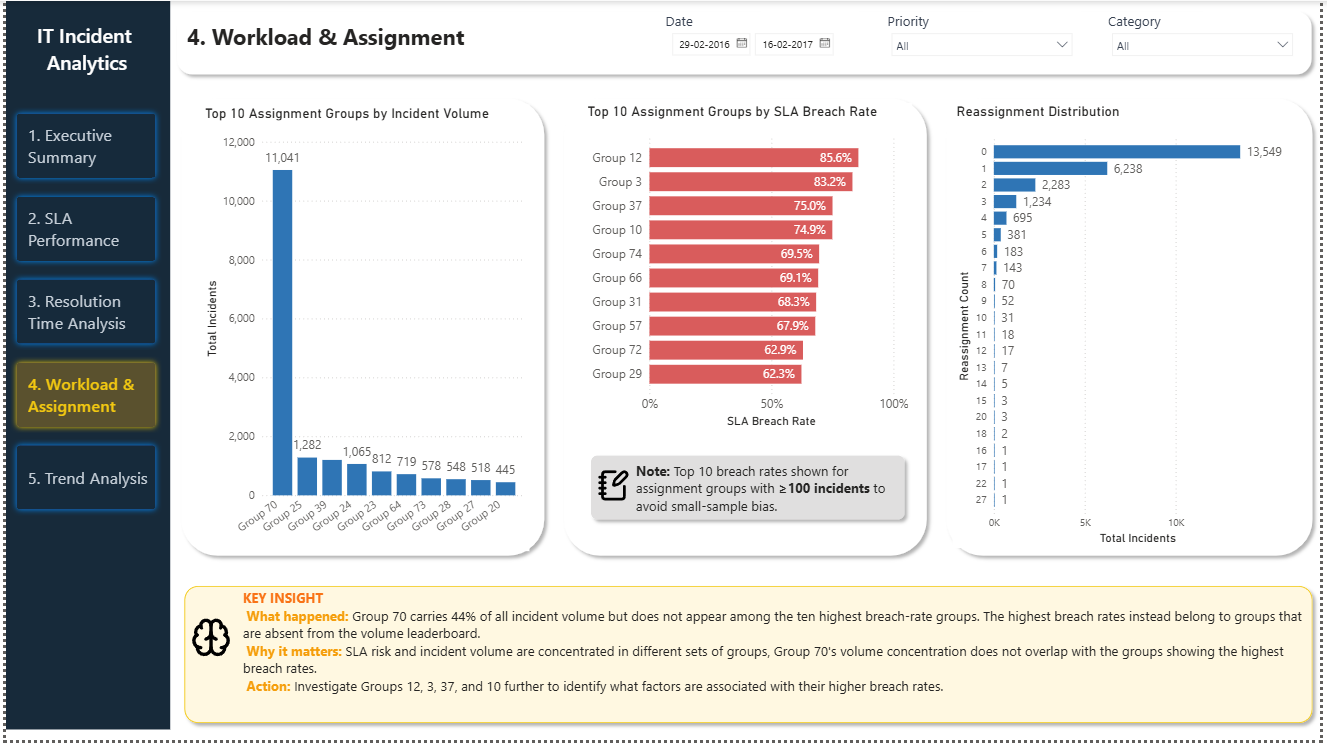

The page's visual inventory and layout, read from the dashboard file:
{"tool":"powerbi","page":{"name":"4. Workload & Assignment","canvas":[1600,900],"ordinal":3},"visuals":[{"type":"shape","box":[200,5,1400,95],"z":0,"group":"g2"},{"type":"clusteredBarChart","title":"Top 10 Assignment Groups by Volume","fields":{"Category":["v_assignment_group_summary.assignment_group"],"Y":["Sum(v_assignment_group_summary.incident_count)"]},"box":[144,96,464,336],"z":0},{"type":"shape","box":[0,-12,200,900],"z":1000,"group":"g3"},{"type":"textbox","box":[0,0,464,64],"z":1000},{"type":"clusteredBarChart","title":"Top 10 Assignment Groups by SLA Breach Rate","fields":{"Category":["v_assignment_group_summary.assignment_group"],"Y":["Max(v_assignment_group_summary.sla_breach_rate)"]},"box":[656,64,496,400],"z":2000},{"type":"clusteredColumnChart","title":"Reassignment Distribution","fields":{"Category":["v_reassignment_distribution.reassignment_count"],"Y":["Sum(v_reassignment_distribution.incident_count)"]},"box":[144,448,528,272],"z":3000},{"type":"group","id":"g1","title":"Group 6","box":[0,-12,1600,900],"z":3001},{"type":"group","id":"g2","title":"Group 2","box":[200,5,1400,95],"z":7000,"group":"g1"},{"type":"slicer","title":"Date","fields":{"Values":["incidents.opened_at"]},"box":[800,14,240,65],"z":7000,"group":"g2"},{"type":"slicer","title":"Priority","fields":{"Values":["incidents.priority"]},"box":[1069.5,14,240,65],"z":8000,"group":"g2"},{"type":"slicer","title":"Category","fields":{"Values":["incidents.category"]},"box":[1339,14,240,65],"z":9000,"group":"g2"},{"type":"textbox","box":[208,18,290,48],"z":10000,"group":"g2"},{"type":"textbox","box":[18,20,154,76],"z":11000,"group":"g3"},{"type":"pageNavigator","box":[6,130,184,500],"z":12000,"group":"g3"},{"type":"group","id":"g3","title":"Group 4","box":[0,-12,200,900],"z":13001,"group":"g1"}]}

Visuals, with their boxes in screenshot pixels (x1, y1, x2, y2), scaled from the page's 1600x900 canvas onto the 1327x745 screenshot:
shape: <region>166, 4, 1326, 83</region>
"Top 10 Assignment Groups by Volume" clusteredBarChart: <region>119, 79, 504, 358</region>
shape: <region>0, 0, 166, 735</region>
textbox: <region>0, 0, 385, 53</region>
"Top 10 Assignment Groups by SLA Breach Rate" clusteredBarChart: <region>544, 53, 955, 384</region>
"Reassignment Distribution" clusteredColumnChart: <region>119, 371, 557, 596</region>
"Group 6" group: <region>0, 0, 1326, 735</region>
"Group 2" group: <region>166, 4, 1326, 83</region>
"Date" slicer: <region>664, 12, 863, 65</region>
"Priority" slicer: <region>887, 12, 1086, 65</region>
"Category" slicer: <region>1111, 12, 1310, 65</region>
textbox: <region>173, 15, 413, 55</region>
textbox: <region>15, 17, 143, 79</region>
pageNavigator: <region>5, 108, 158, 522</region>
"Group 4" group: <region>0, 0, 166, 735</region>
